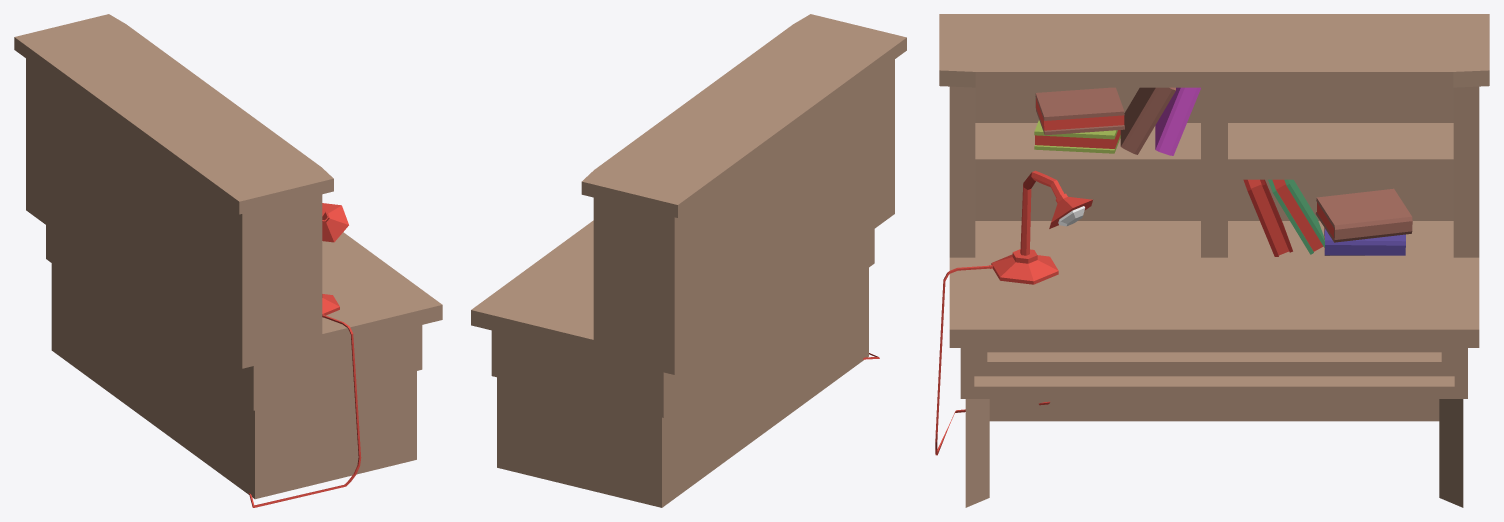
The model's file is Desk.fbx.
The picture shows the model from 3 angles, left to right: view 1: azimuth 30°, elevation 25°; view 2: azimuth 150°, elevation 25°; view 3: azimuth 270°, elevation 25°; orthographic projection. The views are drawn at different scales.
Parts seen in each view (by area): view 1: Circle.006; view 2: Circle.006; view 3: Circle.006.
Part boxes in pixels (x1,y1,x2,y2): Circle.006: (14,14,442,507); Circle.006: (471,14,906,507); Circle.006: (935,14,1489,507).
Size of the model in its own units: 724 by 1054 by 1370.
